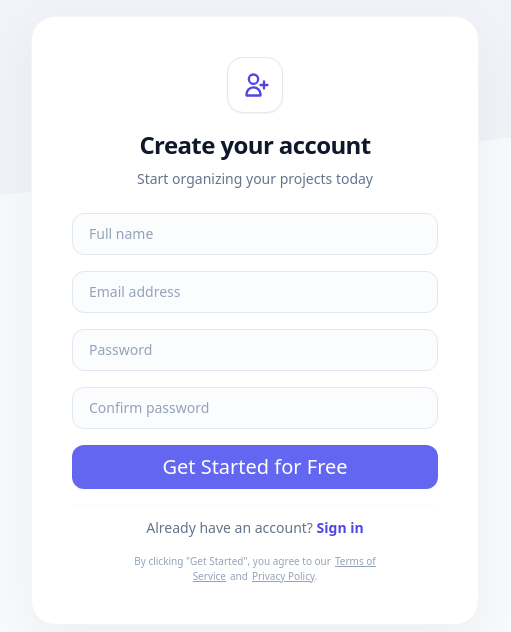
Scenario: shows error for fullNames
In the field labelled "Full name": point(255, 234) [72, 212, 438, 254], type "A"
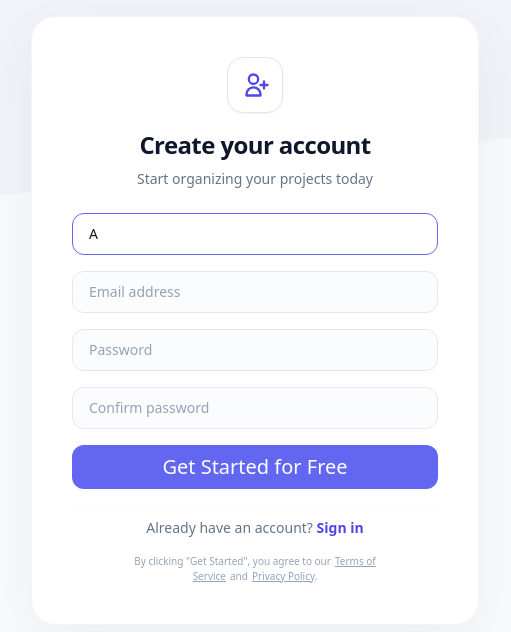
Click the button "Get Started for Free": point(255, 466) [72, 444, 438, 488]
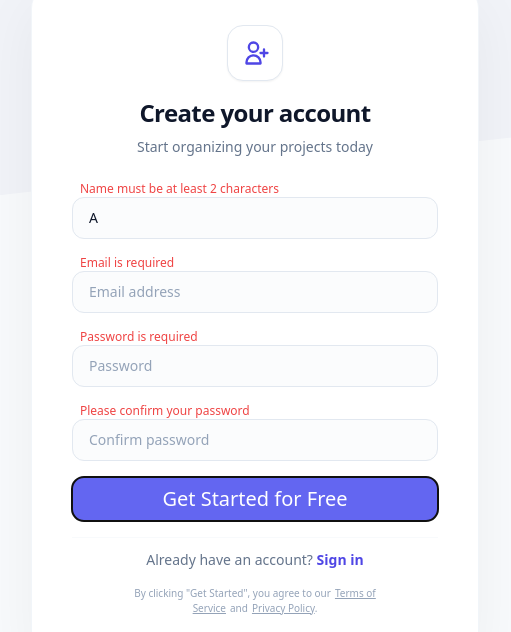
expect the text "Name must be at least 2 characters" is shown: met, box [80, 180, 279, 196]
